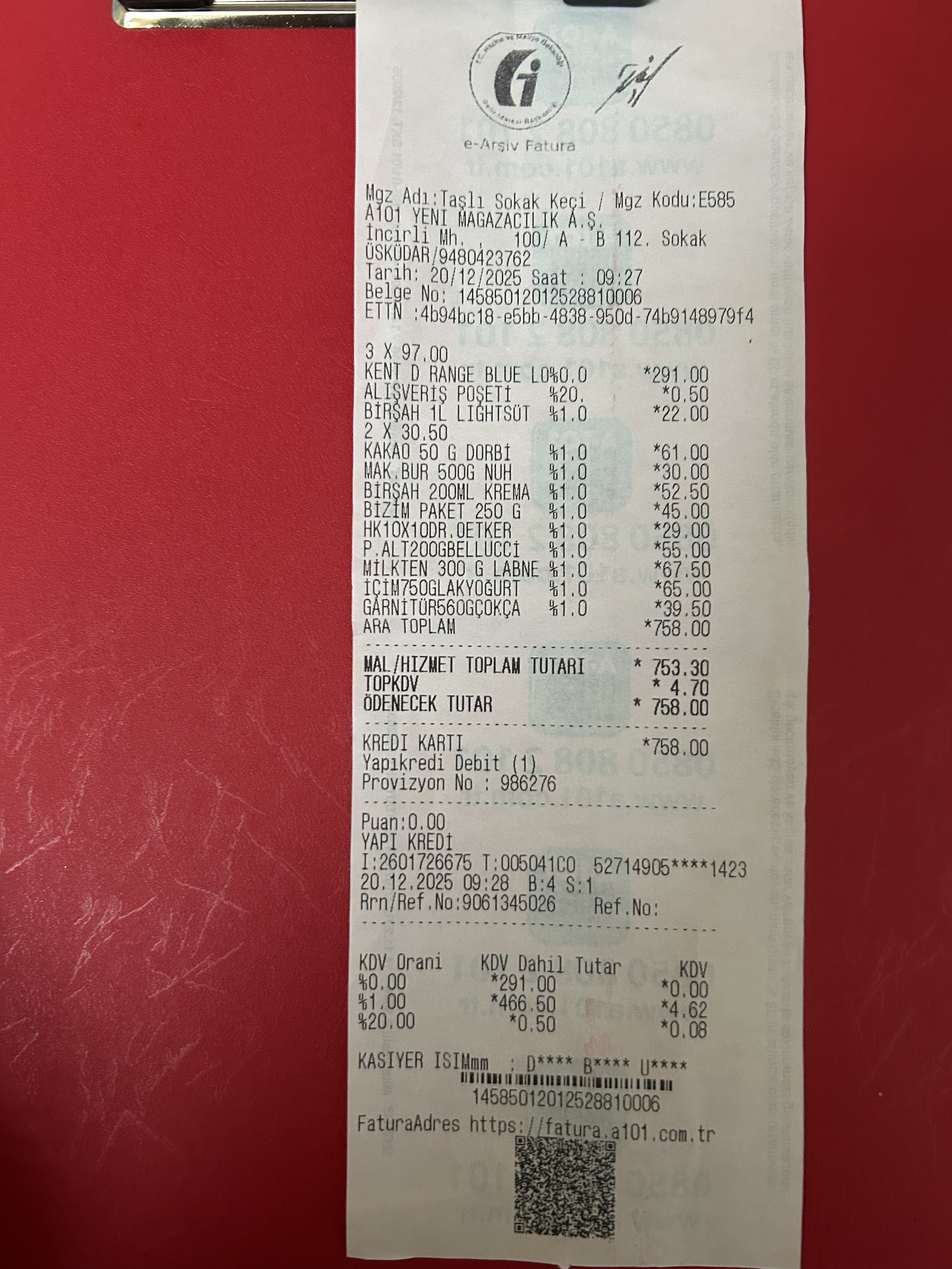date: (425, 265, 525, 290)
price: (644, 697, 722, 719)
workplace: (360, 178, 742, 250)
